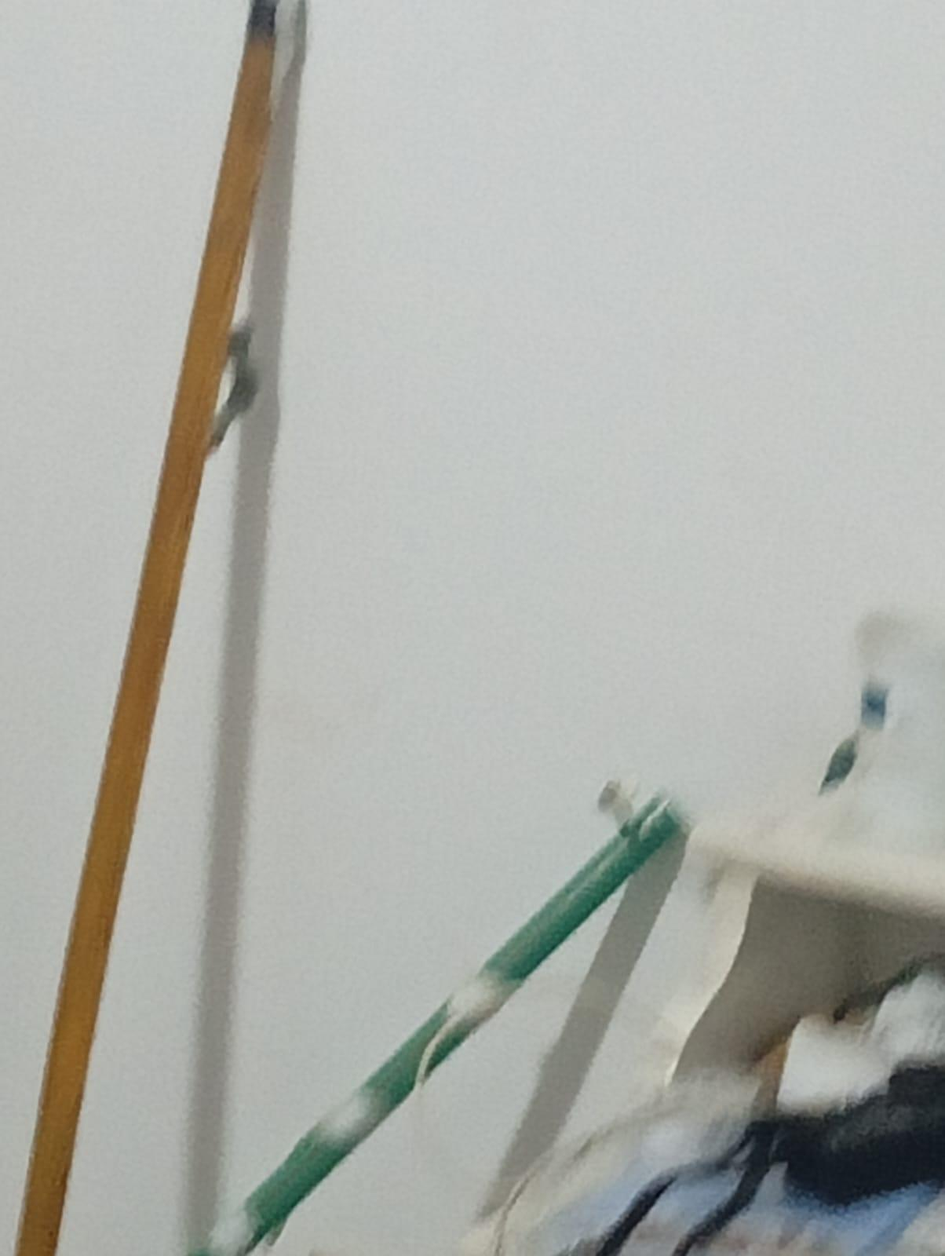cup: (812, 613, 944, 861)
